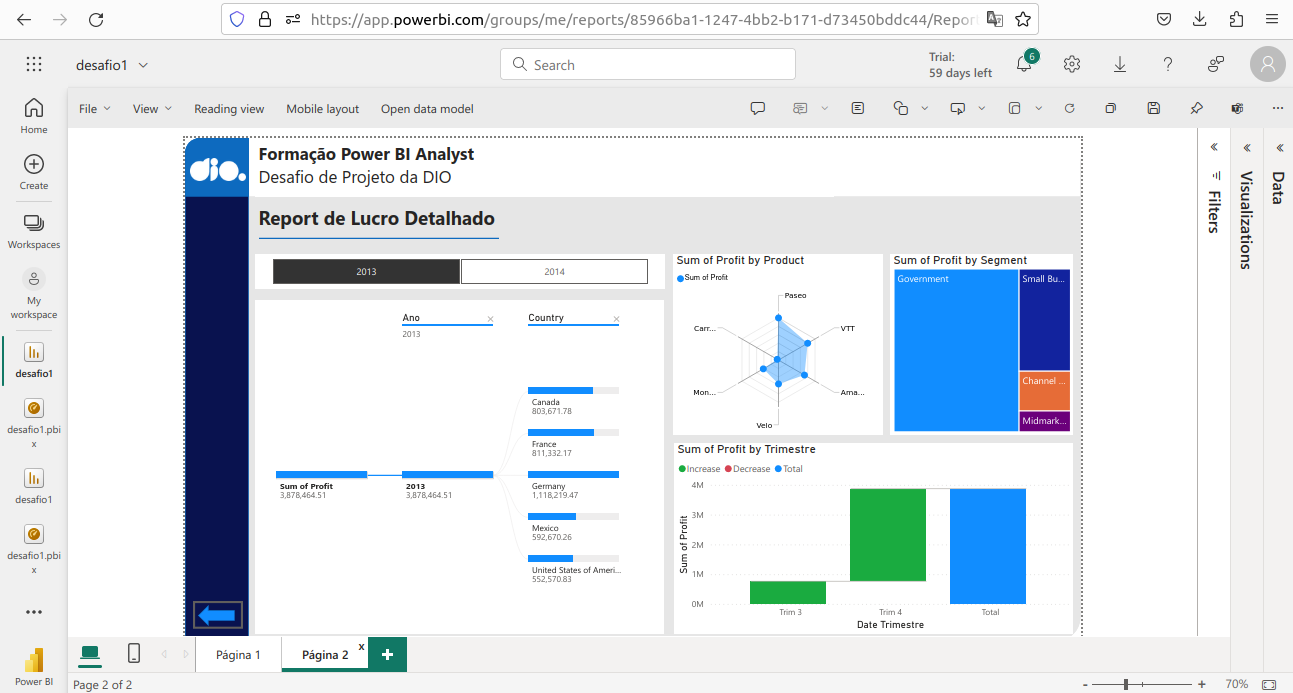

This screenshot's page, from the dashboard's own definition file:
{"tool":"powerbi","page":{"name":"Página 2","canvas":[1280,720],"ordinal":1},"visuals":[{"type":"shape","box":[10.1,0,1269.9,719.7],"z":0},{"type":"shape","box":[0,0,91.1,719.6],"z":1000},{"type":"shape","box":[0,0,91.9,83.8],"z":2000},{"type":"image","title":"logo_dio","box":[1.4,0,90.5,89.2],"z":3000},{"type":"shape","box":[91.8,0,1187.8,83.7],"z":4000},{"type":"textbox","box":[100,0,826.7,84.4],"z":5000},{"type":"shape","box":[105.7,137.5,343.2,12.5],"z":6000},{"type":"textbox","box":[100,89.8,359.1,48.9],"z":7000},{"type":"shape","box":[1006.9,165.5,262.1,258.6],"z":8000},{"type":"shape","box":[700,436.2,569,272.4],"z":9000},{"type":"shape","box":[19,666.7,52.4,30.2],"z":10000},{"type":"actionButton","box":[11.1,661.9,71.4,39.7],"z":11000},{"type":"decompositionTreeVisual","fields":{"Analyze":["Sum(financials.Profit)"],"ExplainBy":["financials.Date.Variation.Hierarquia de datas.Ano","financials.Country"]},"box":[100,231,584.5,477.6],"z":12000},{"type":"shape","box":[100,165.9,585.2,48.9],"z":13000},{"type":"shape","box":[700,165.5,296.6,258.6],"z":14000},{"type":"RadarChart1446119667547","fields":{"Category":["financials.Product"],"Y":["Sum(financials.Profit)"]},"box":[696.6,165.5,300,258.6],"z":15000},{"type":"treemap","fields":{"Values":["Sum(financials.Profit)"],"Group":["financials.Segment"]},"box":[1006.9,165.5,262.1,258.6],"z":16000},{"type":"waterfallChart","fields":{"Category":["financials.Date.Variation.Hierarquia de datas.Trimestre"],"Y":["Sum(financials.Profit)"]},"box":[698.3,436.2,570.7,272.4],"z":17000},{"type":"slicer","fields":{"Values":["financials.Year"]},"box":[100.7,165.5,585.4,49.5],"z":18000}]}

Visuals, with their boxes on the page's 1280x720 design canvas (x1, y1, x2, y2). These are canvas units, not pixel positions in the 1293x693 screenshot, which may show the page scaled, cropped or inside an application window:
shape: <box>10,0,1280,720</box>
shape: <box>0,0,91,720</box>
shape: <box>0,0,92,84</box>
"logo_dio" image: <box>1,0,92,89</box>
shape: <box>92,0,1280,84</box>
textbox: <box>100,0,927,84</box>
shape: <box>106,138,449,150</box>
textbox: <box>100,90,459,139</box>
shape: <box>1007,166,1269,424</box>
shape: <box>700,436,1269,709</box>
shape: <box>19,667,71,697</box>
actionButton: <box>11,662,82,702</box>
decompositionTreeVisual - Sum(financials.Profit) x financials.Date.Variation.Hierarquia de datas.Ano: <box>100,231,684,709</box>
shape: <box>100,166,685,215</box>
shape: <box>700,166,997,424</box>
RadarChart1446119667547 - financials.Product x Sum(financials.Profit): <box>697,166,997,424</box>
treemap - Sum(financials.Profit) x financials.Segment: <box>1007,166,1269,424</box>
waterfallChart - financials.Date.Variation.Hierarquia de datas.Trimestre x Sum(financials.Profit): <box>698,436,1269,709</box>
slicer - financials.Year: <box>101,166,686,215</box>
